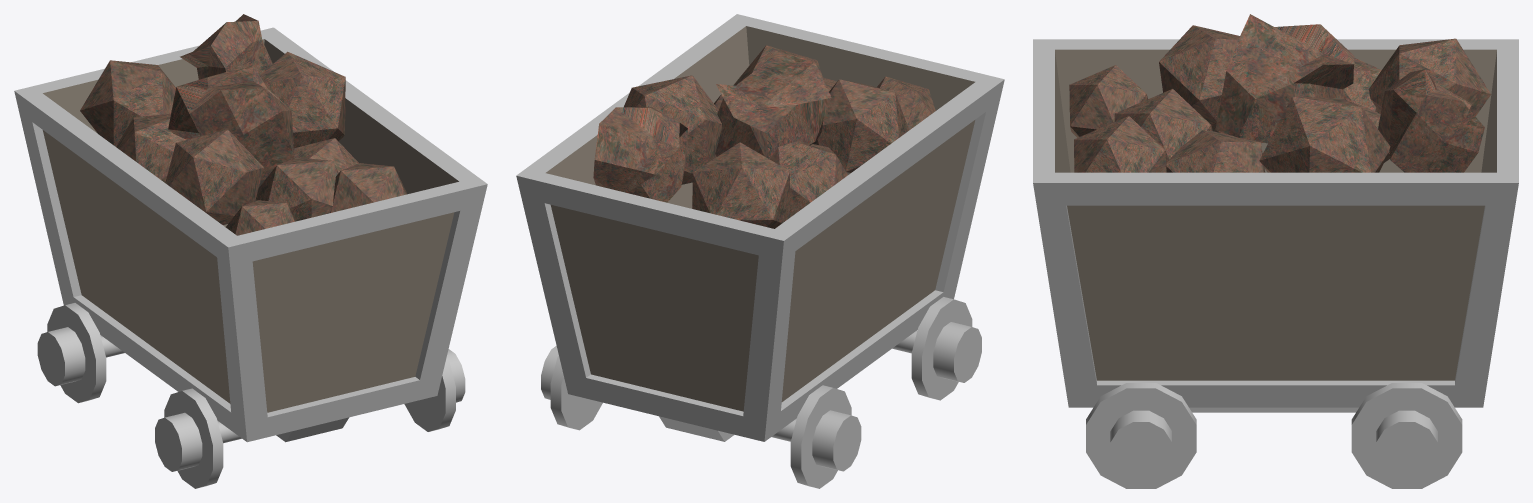
Rendered from cave_minecart_full.glb.
3 renders of one model, left to right at view 1: azimuth 30°, elevation 25°; view 2: azimuth 150°, elevation 25°; view 3: azimuth 270°, elevation 25°, orthographic. The views are drawn at different scales.
Visible parts, largest first — view 1: MineCartFull; view 2: MineCartFull; view 3: MineCartFull.
Part boxes in pixels (x1,y1,x2,y2): MineCartFull: [14, 14, 487, 488]; MineCartFull: [516, 14, 1004, 488]; MineCartFull: [1033, 14, 1518, 488].
Bounding box in the file's own units: 0.6988 × 0.7992 × 0.9143.
Materials: 3 (1 with a texture image).
